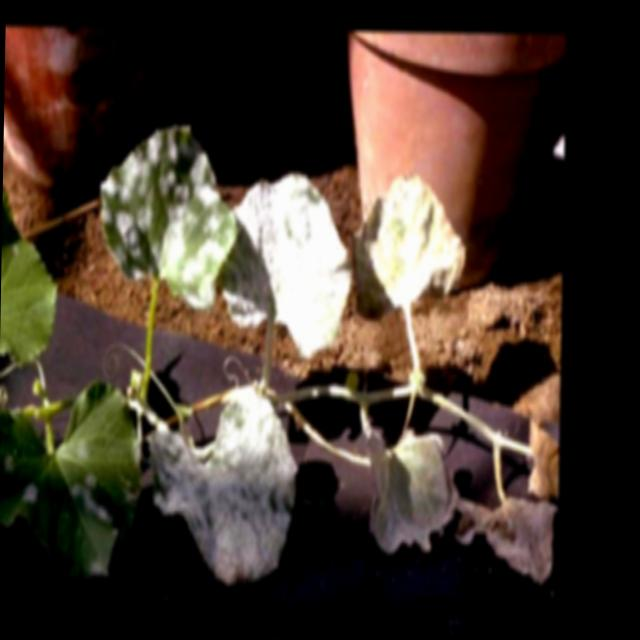Powdery_Mildew: (85, 112, 255, 318), (144, 370, 295, 587), (221, 170, 371, 381), (340, 170, 472, 344), (0, 424, 130, 572), (364, 410, 473, 569), (469, 476, 564, 592)
